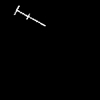double_crochet: (14, 6, 44, 25)
